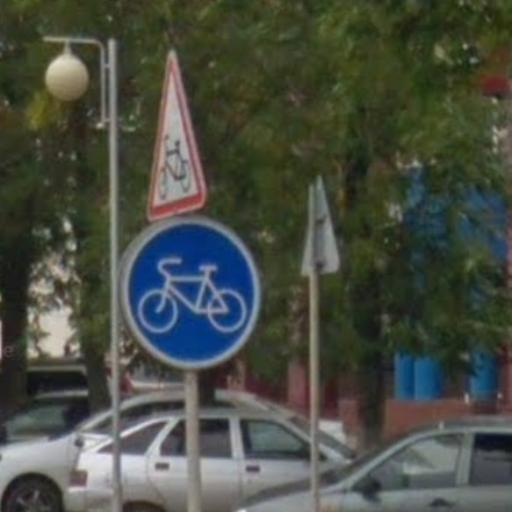traffic_sign: (118, 218, 263, 375), (145, 50, 211, 225)
